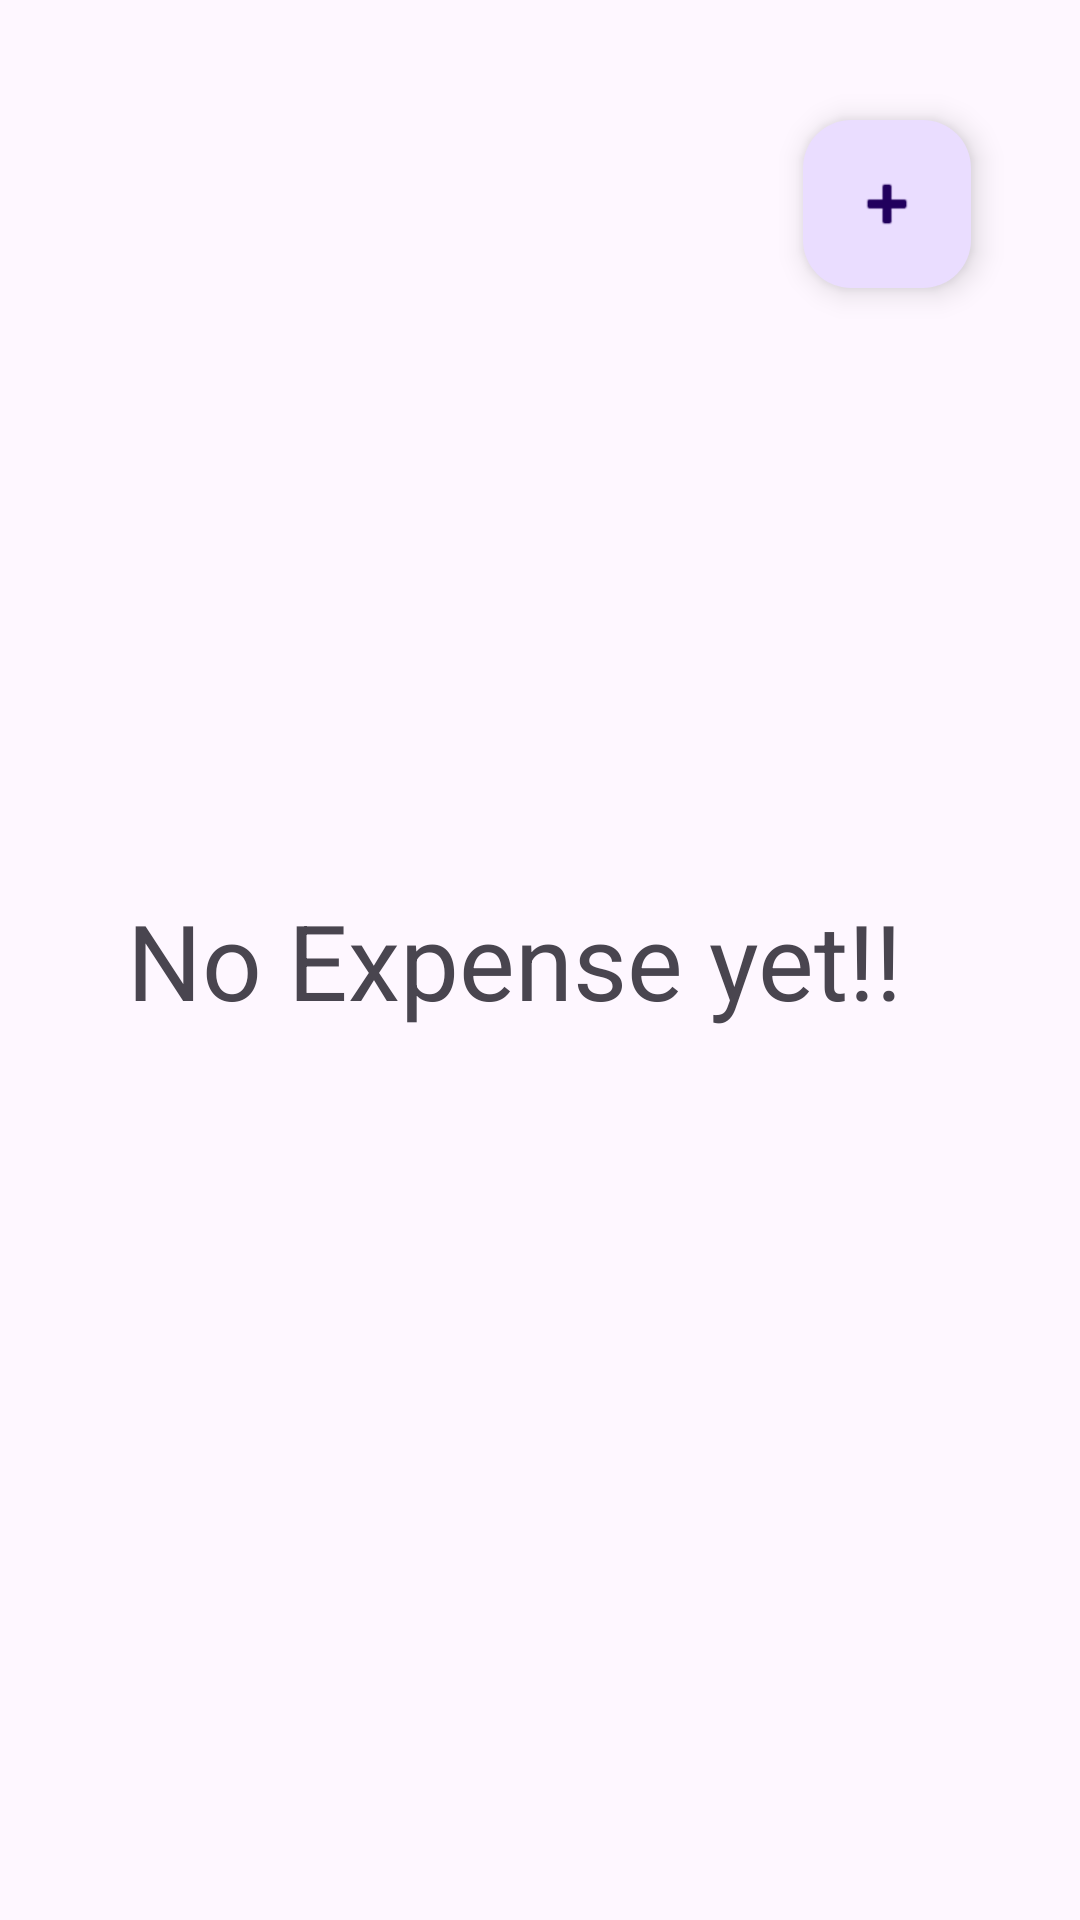

Icon click points for this 1080 × 1920 phone screenshot, format (x=x, y=y):
add: (x=887, y=204)
